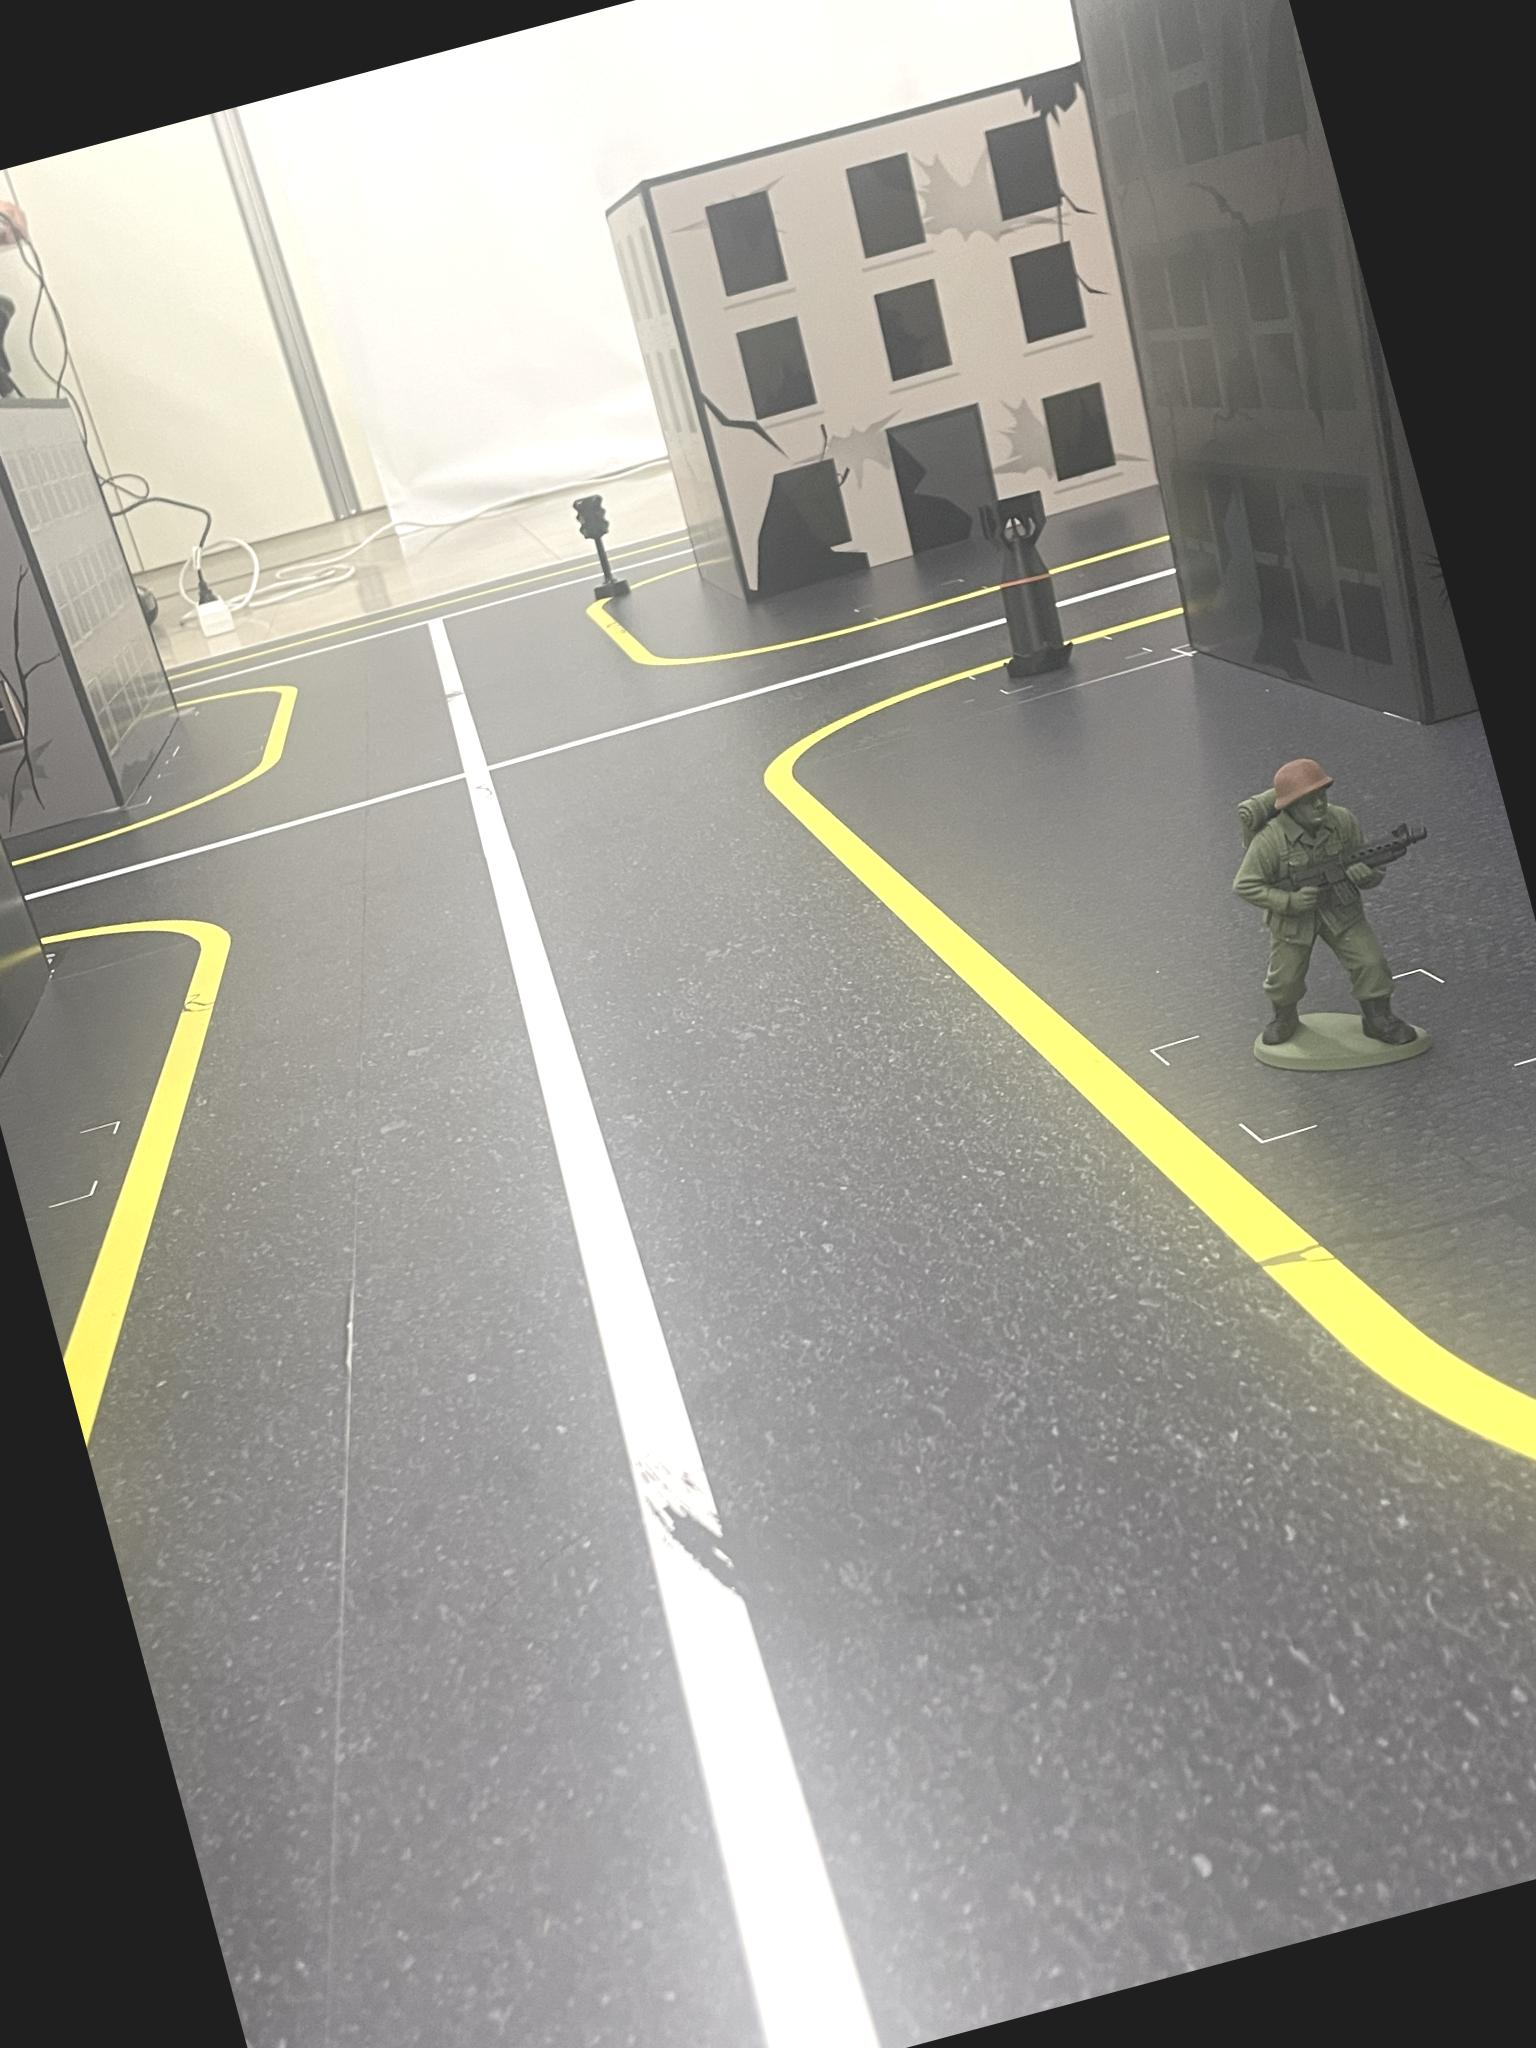Enemy: (1184, 719, 1476, 1097)
Missile: (958, 481, 1100, 693)
